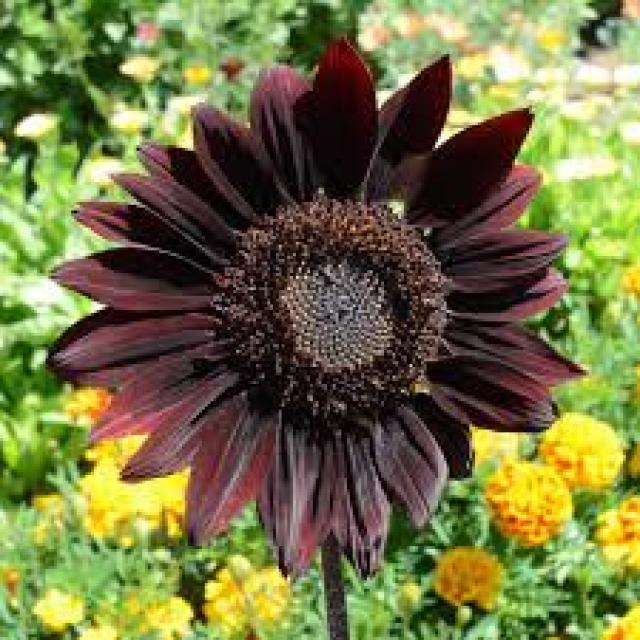sunflower: (43, 23, 607, 584)
